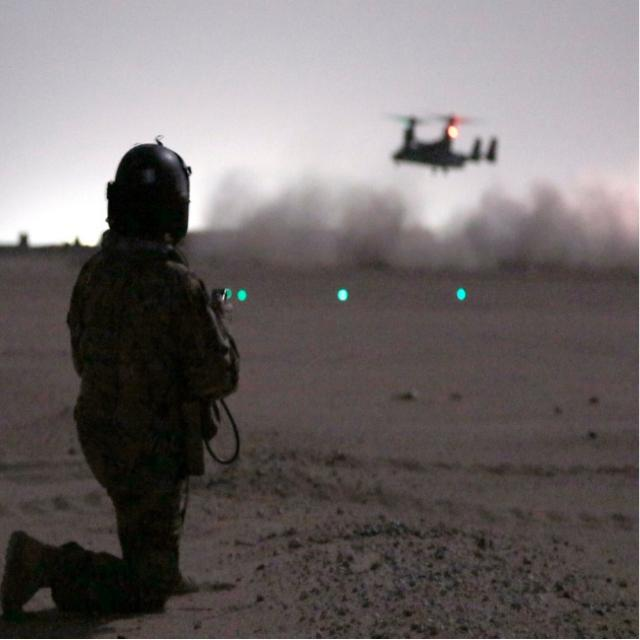MIL_Plane: (382, 110, 499, 176)
